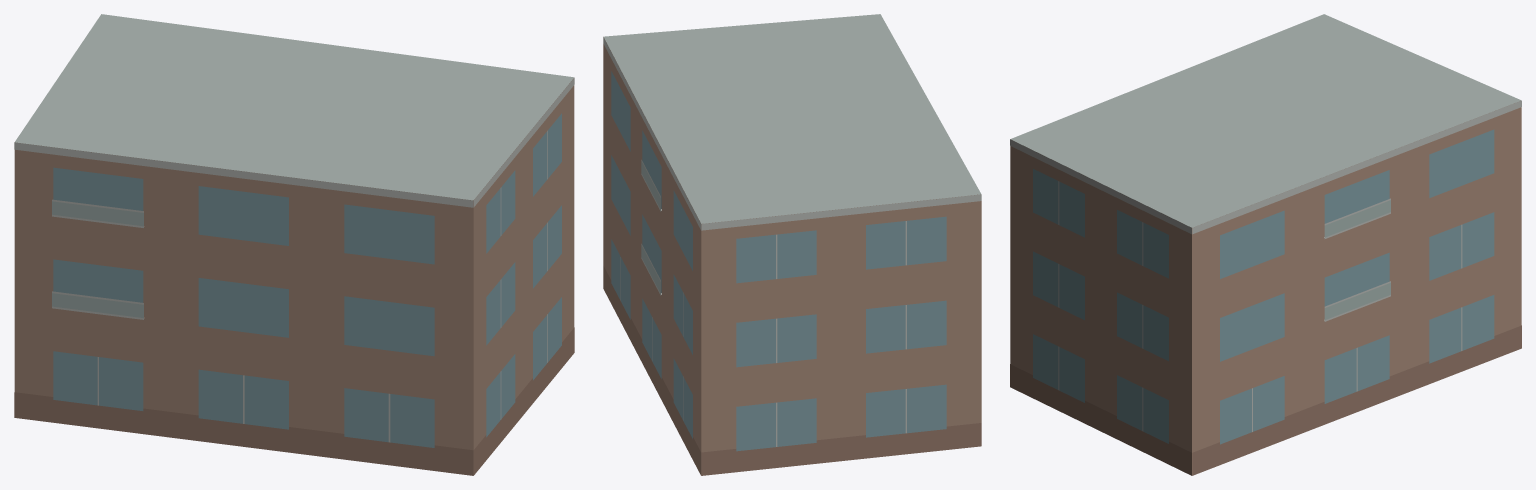
The model's file is survey-upis-32979459.glb.
3 views of the same model, side by side, from view 1: azimuth 30°, elevation 25°; view 2: azimuth 150°, elevation 25°; view 3: azimuth 270°, elevation 25° (orthographic). The views are drawn at different scales.
Parts seen in each view (by area): view 1: survey-upis-32979459.tmp; view 2: survey-upis-32979459.tmp; view 3: survey-upis-32979459.tmp.
Part boxes in pixels (left/top/right/bottom): survey-upis-32979459.tmp: left=14, top=14, right=574, bottom=475; survey-upis-32979459.tmp: left=603, top=14, right=981, bottom=475; survey-upis-32979459.tmp: left=1010, top=14, right=1521, bottom=475.
Bounding box in the file's own units: 16.93 × 9.15 × 17.11.
